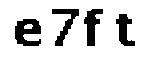7: (46, 5, 81, 49)
e: (12, 15, 44, 49)
f: (82, 5, 106, 51)
t: (113, 10, 139, 51)
